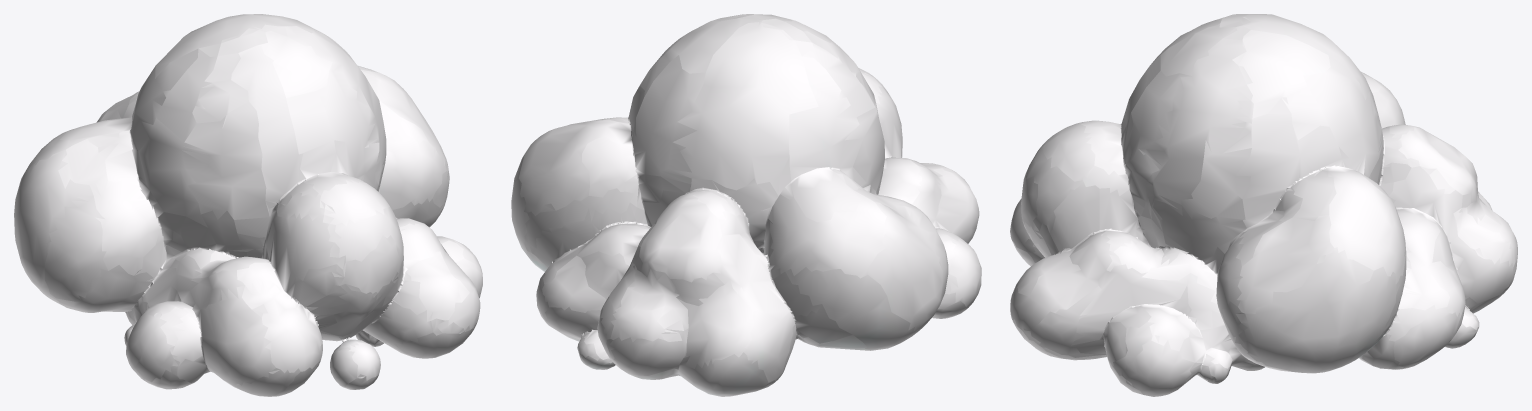
Rendered from cloud2.glb.
3 views of the same model, side by side, from view 1: azimuth 30°, elevation 25°; view 2: azimuth 150°, elevation 25°; view 3: azimuth 270°, elevation 25° (orthographic). The views are drawn at different scales.
Bounding box in the file's own units: 1.79 × 1.23 × 1.9.
Materials: 1 (1 with a texture image).
